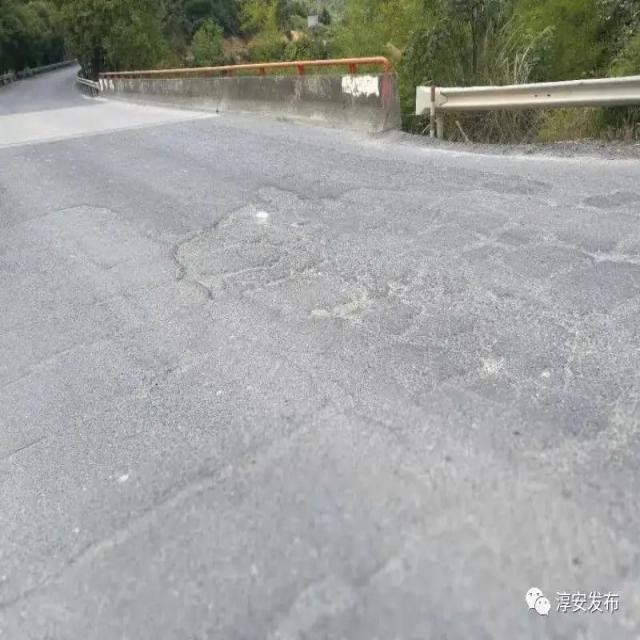Pothole: (166, 181, 633, 385)
